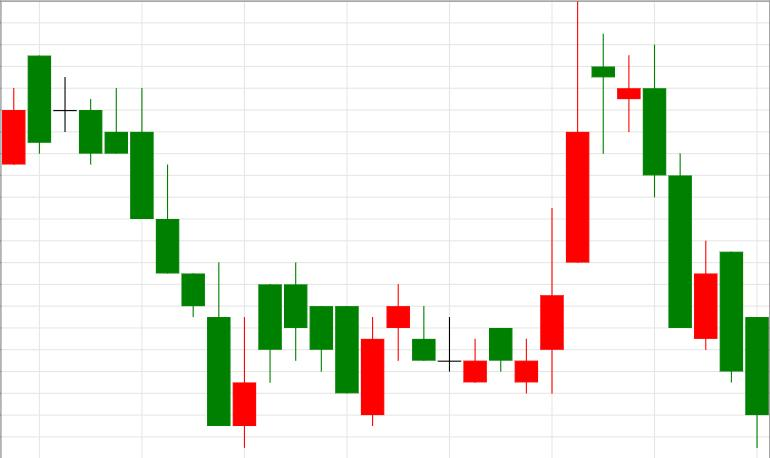inverse_hammer_rise: (53, 75, 257, 447)
